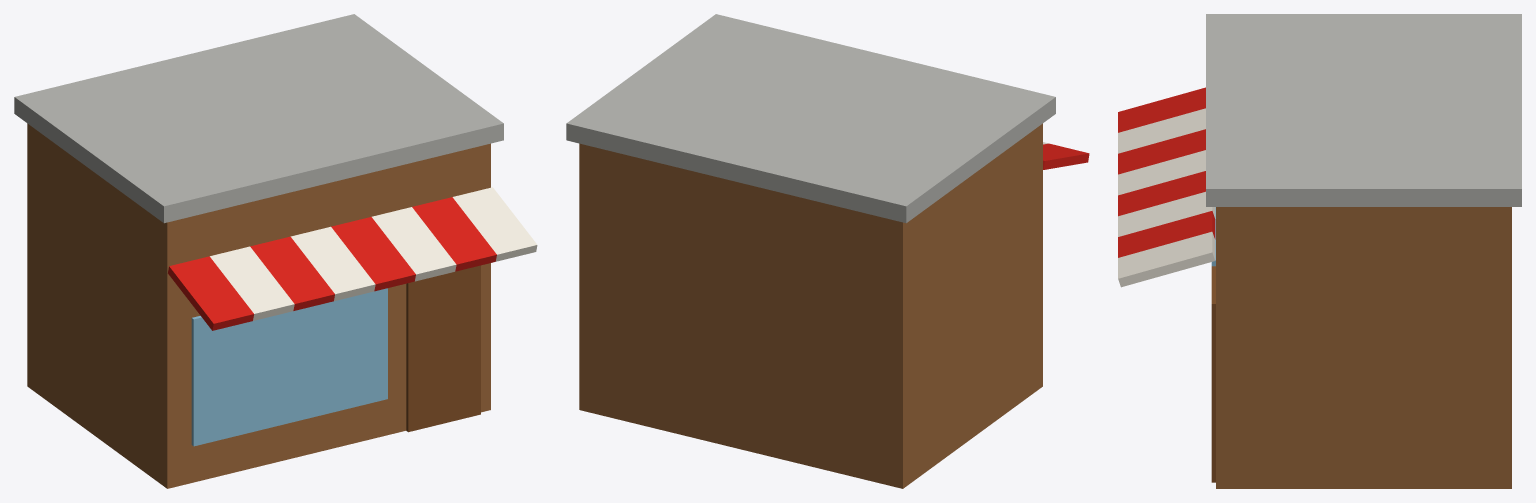
The model's file is awning_shop.glb.
3 views of the same model, side by side, from view 1: azimuth 30°, elevation 25°; view 2: azimuth 150°, elevation 25°; view 3: azimuth 270°, elevation 25° (orthographic). The views are drawn at different scales.
Parts seen in each view (by area): view 1: awning_shop; view 2: awning_shop; view 3: awning_shop.
Part boxes in pixels (<box>): awning_shop: <box>14,14,537,488</box>; awning_shop: <box>566,14,1089,488</box>; awning_shop: <box>1118,14,1521,488</box>.
Size of the model in its own units: 4.2 by 3.4 by 4.09.
